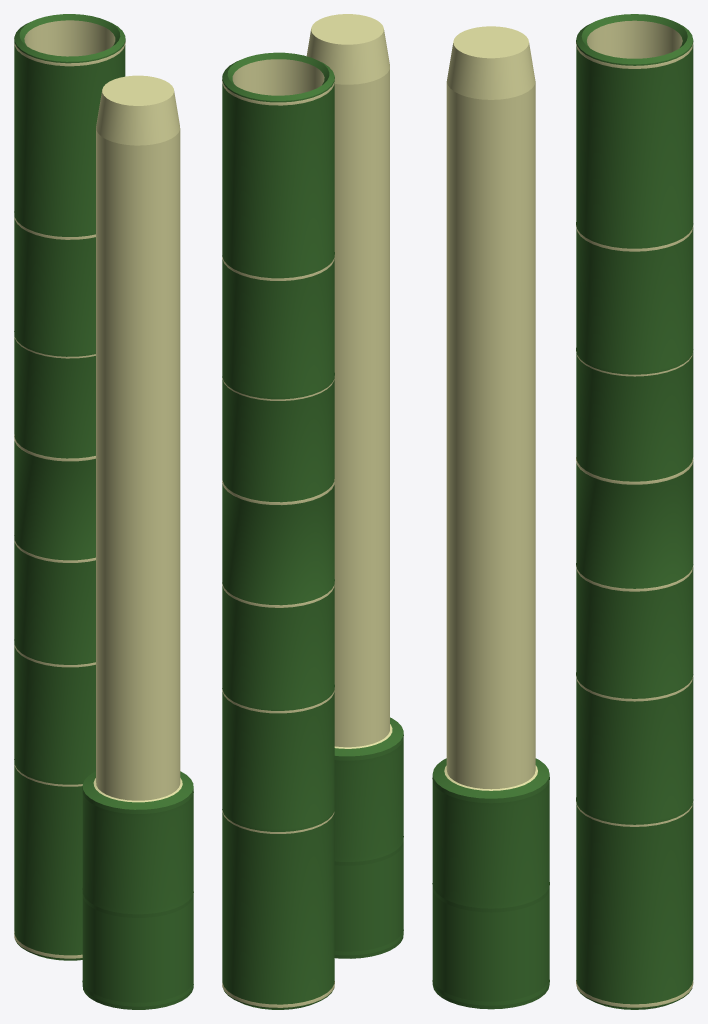
The model's file is peletokan.fbx.
3 renders of one model, left to right at view 1: azimuth 30°, elevation 25°; view 2: azimuth 150°, elevation 25°; view 3: azimuth 270°, elevation 25°, orthographic. The views are drawn at different scales.
Visible parts, largest first — view 1: Cylinder.001, Cylinder; view 2: Cylinder, Cylinder.001; view 3: Cylinder, Cylinder.001.
Boxes of the visible parts, bbox=[...] form: Cylinder.001: bbox=[82, 75, 193, 1009]; Cylinder: bbox=[14, 14, 125, 960]; Cylinder: bbox=[222, 52, 334, 1009]; Cylinder.001: bbox=[306, 14, 403, 958]; Cylinder: bbox=[576, 14, 693, 1009]; Cylinder.001: bbox=[432, 26, 549, 1009].
Bounding box in the file's own units: 53.65 × 479 × 119.
